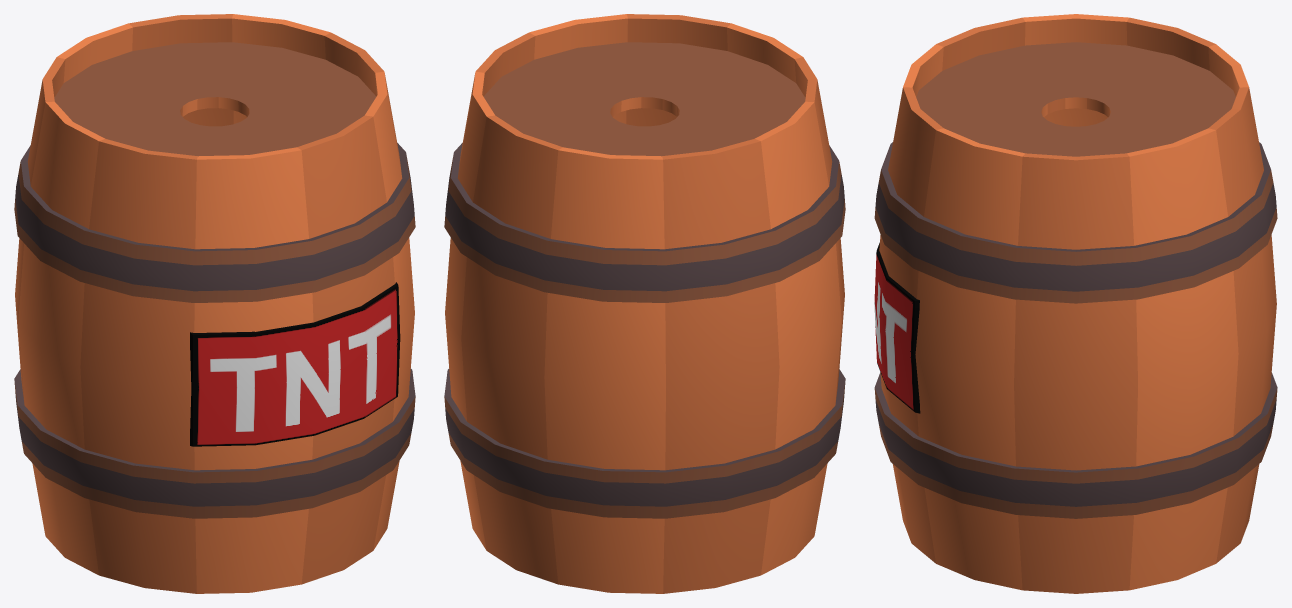
The model's file is TNT.fbx.
3 renders of one model, left to right at view 1: azimuth 30°, elevation 25°; view 2: azimuth 150°, elevation 25°; view 3: azimuth 270°, elevation 25°, orthographic.
Visible parts, largest first — view 1: Game_Props_TNT02; view 2: Game_Props_TNT02; view 3: Game_Props_TNT02.
Part boxes in pixels (bbox=[...]): Game_Props_TNT02: bbox=[14, 14, 415, 593]; Game_Props_TNT02: bbox=[444, 14, 845, 593]; Game_Props_TNT02: bbox=[874, 14, 1277, 593].
Bounding box in the file's own units: 1.91 × 2.26 × 1.91.
Materials: 2 (2 with a texture image).
